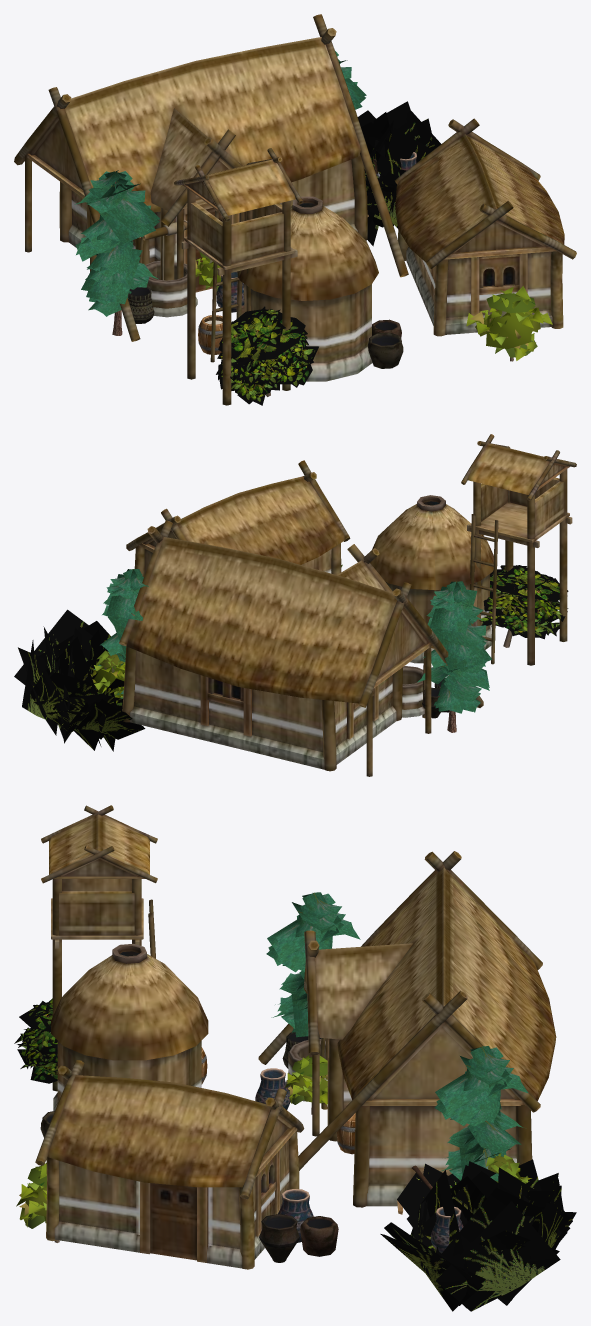
The model's file is 123-villagecenter.glb.
3 views of the same model, one above another, from view 1: azimuth 30°, elevation 25°; view 2: azimuth 150°, elevation 25°; view 3: azimuth 270°, elevation 25° (orthographic). The views are drawn at different scales.
Size of the model in its own units: 9.68 by 5.73 by 9.41.
Materials: 19 (17 with a texture image).
